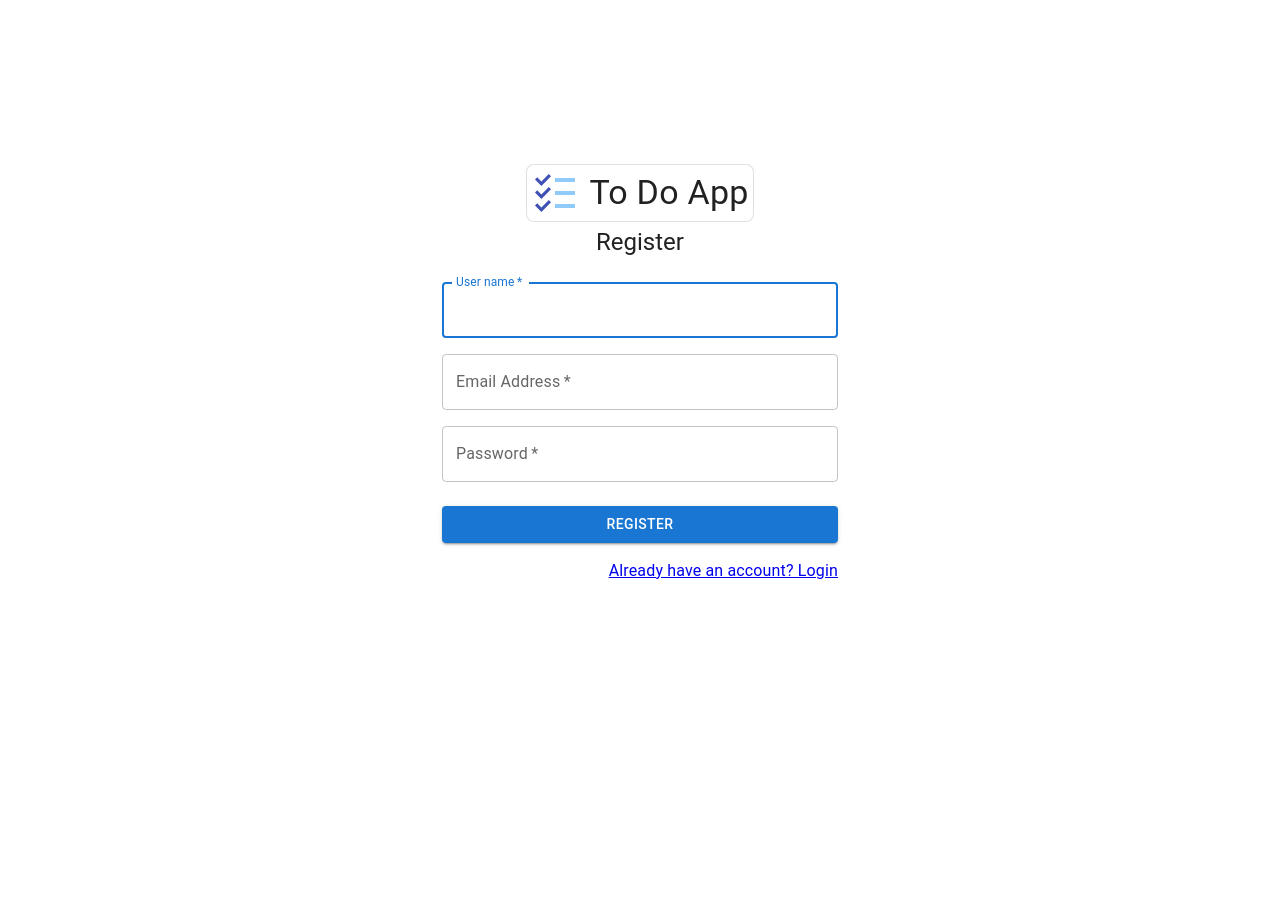
Test: Register Component › should display error when fields are missing
This screenshot has width=1280, height=900.
Click the button "Register".
click(640, 524)  # box [442,506,838,542]
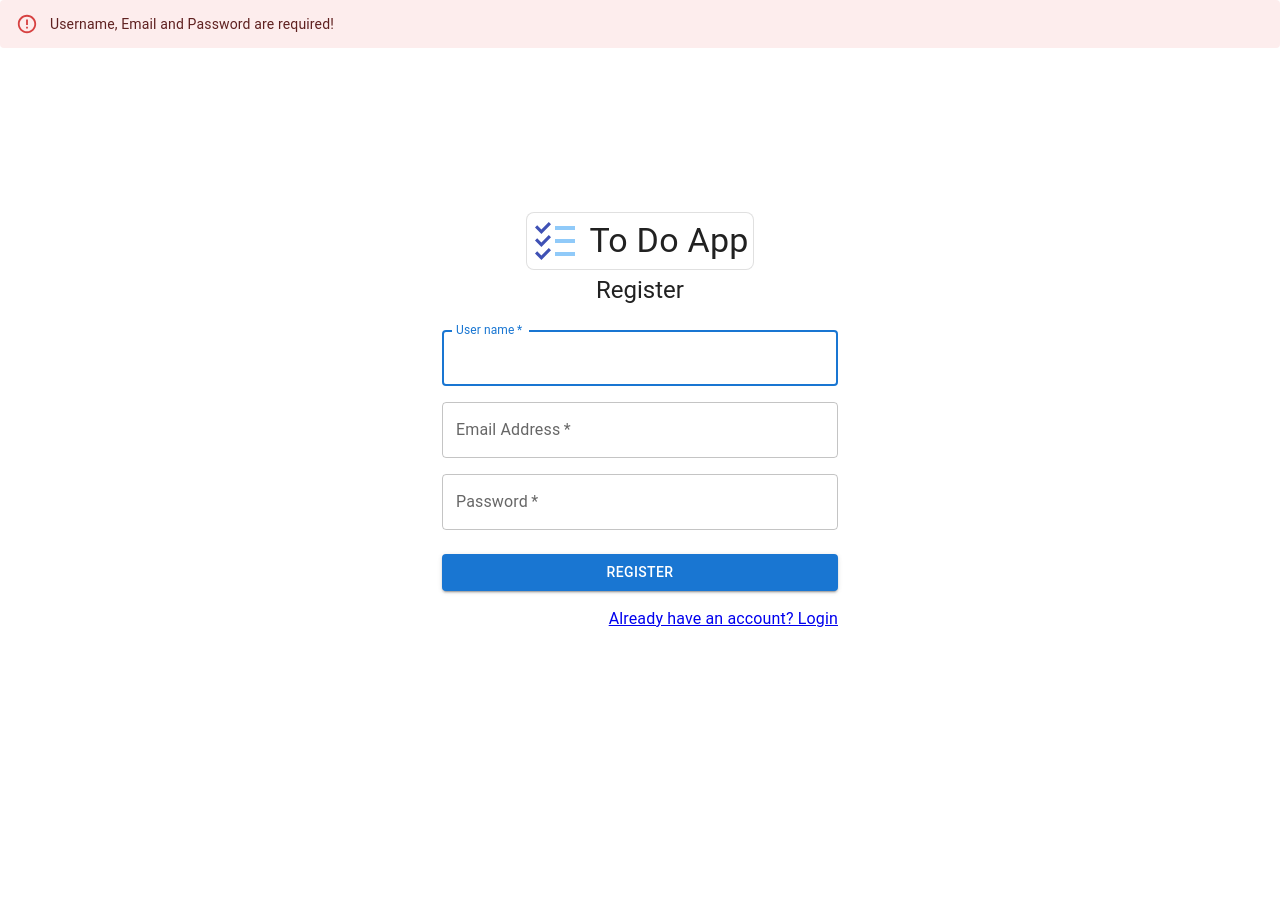
Expected: the text "Username, Email and Password are required!" is shown, [50,16,334,32]
